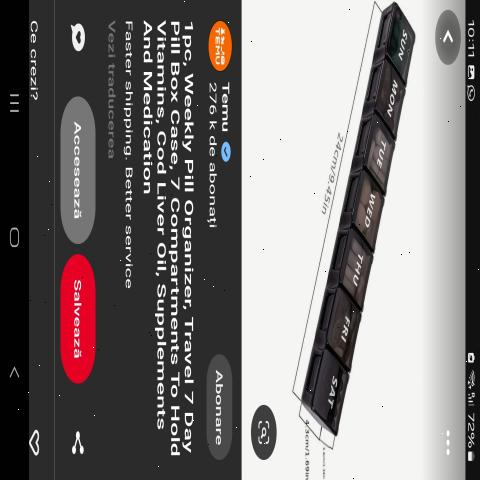PillBox: (294, 4, 430, 454)
